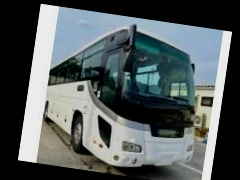bus: (39, 12, 207, 180)
